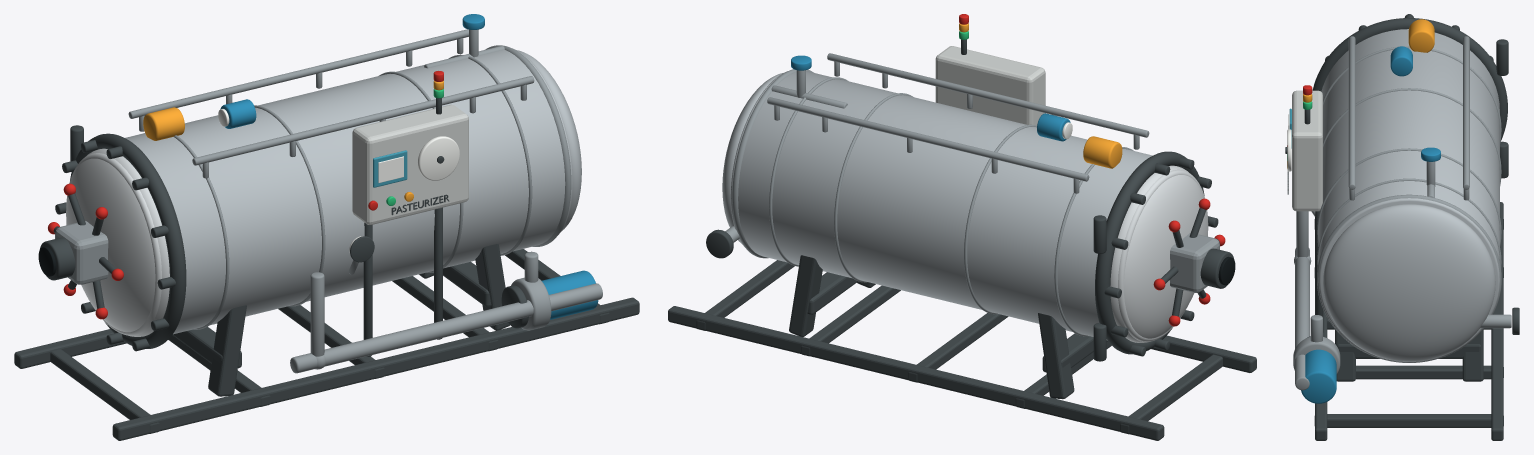
Rendered from tomato-paste-pasteurizer.glb.
3 renders of one model, left to right at view 1: azimuth 30°, elevation 25°; view 2: azimuth 150°, elevation 25°; view 3: azimuth 270°, elevation 25°, orthographic. The views are drawn at different scales.
Visible parts, largest first — view 1: PressureVessel, FrontDoorDome, BaseRail_-1, ControlCabinet, LowerProcessPipe, FrontFlangeOuter, TopRail_-0.9, TopRail_+0.9, SaddlePost_-2.2_-1.0, FrontFeedHousing, BaseCrossmember_-3.8, BaseRail_+1 (+22 smaller); view 2: PressureVessel, FrontDoorDome, BaseRail_+1, ControlCabinet, FrontFlangeOuter, TopRail_-0.9, TopRail_+0.9, SaddlePost_-2.2_+1.0, FrontFeedHousing, BaseCrossmember_-3.8, SaddlePost_+2.1_+1.0, BaseCrossmember_+1.9 (+17 smaller); view 3: PressureVessel, RearDome, ControlCabinet, FrontFlangeOuter, BaseCrossmember_+3.8, BaseRail_+1, BaseCrossmember_+1.9, LowerProcessPipe, BluePumpMotor, RearFlange, TopRail_-0.9, TopRail_+0.9 (+18 smaller).
Boxes of the visible parts, bbox=[...] form: PressureVessel: bbox=[125, 48, 572, 334]; FrontDoorDome: bbox=[66, 148, 169, 336]; BaseRail_-1: bbox=[112, 297, 639, 440]; ControlCabinet: bbox=[352, 104, 468, 224]; LowerProcessPipe: bbox=[290, 283, 602, 373]; FrontFlangeOuter: bbox=[70, 133, 186, 348]; TopRail_-0.9: bbox=[192, 76, 534, 165]; TopRail_+0.9: bbox=[128, 29, 468, 118]; SaddlePost_-2.2_-1.0: bbox=[208, 305, 246, 396]; FrontFeedHousing: bbox=[55, 221, 108, 284]; BaseCrossmember_-3.8: bbox=[50, 349, 159, 433]; BaseRail_+1: bbox=[14, 329, 126, 368]; PressureVessel: bbox=[730, 71, 1152, 340]; FrontDoorDome: bbox=[1110, 165, 1208, 342]; BaseRail_+1: bbox=[668, 306, 1164, 440]; ControlCabinet: bbox=[935, 46, 1045, 125]; FrontFlangeOuter: bbox=[1095, 151, 1204, 354]; TopRail_-0.9: bbox=[827, 53, 1149, 137]; TopRail_+0.9: bbox=[767, 97, 1089, 181]; SaddlePost_-2.2_+1.0: bbox=[1038, 313, 1074, 399]; FrontFeedHousing: bbox=[1170, 233, 1219, 292]; BaseCrossmember_-3.8: bbox=[1120, 354, 1222, 434]; SaddlePost_+2.1_+1.0: bbox=[789, 255, 822, 336]; BaseCrossmember_+1.9: bbox=[801, 285, 900, 356]; PressureVessel: bbox=[1318, 29, 1499, 362]; RearDome: bbox=[1323, 204, 1495, 361]; ControlCabinet: bbox=[1292, 90, 1322, 211]; FrontFlangeOuter: bbox=[1312, 18, 1507, 141]; BaseCrossmember_+3.8: bbox=[1314, 414, 1503, 427]; BaseRail_+1: bbox=[1491, 202, 1503, 440]; BaseCrossmember_+1.9: bbox=[1356, 365, 1503, 379]; LowerProcessPipe: bbox=[1295, 248, 1309, 390]; BluePumpMotor: bbox=[1301, 349, 1336, 403]; RearFlange: bbox=[1317, 194, 1501, 362]; TopRail_-0.9: bbox=[1348, 36, 1355, 189]; TopRail_+0.9: bbox=[1463, 36, 1469, 189].
Size of what is drawn, in the model's own units: 9.05 by 4.71 by 3.78.
